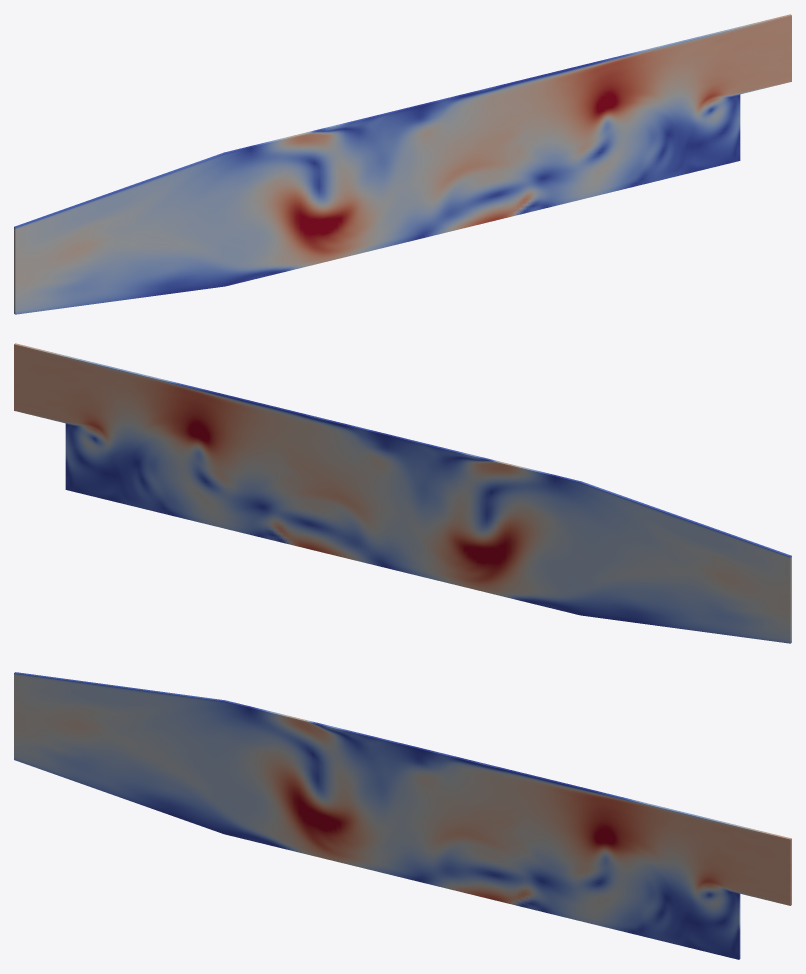
Rendered from Shape_IndexedFaceSet.002reference_velocity.py_timestep4_time0.2_.fbx.
3 renders of one model, top to bottom at view 1: azimuth 30°, elevation 25°; view 2: azimuth 150°, elevation 25°; view 3: azimuth 330°, elevation 25°, orthographic.
Parts seen in each view (by area): view 1: Shape_IndexedFaceSet.002; view 2: Shape_IndexedFaceSet.002; view 3: Shape_IndexedFaceSet.002.
Boxes of the visible parts, left/top/right/bottom form: Shape_IndexedFaceSet.002: left=14, top=14, right=791, bottom=314; Shape_IndexedFaceSet.002: left=14, top=343, right=791, bottom=643; Shape_IndexedFaceSet.002: left=14, top=672, right=791, bottom=959.
Size of the model in its own units: 31.06 by 5.08 by 0.1.
